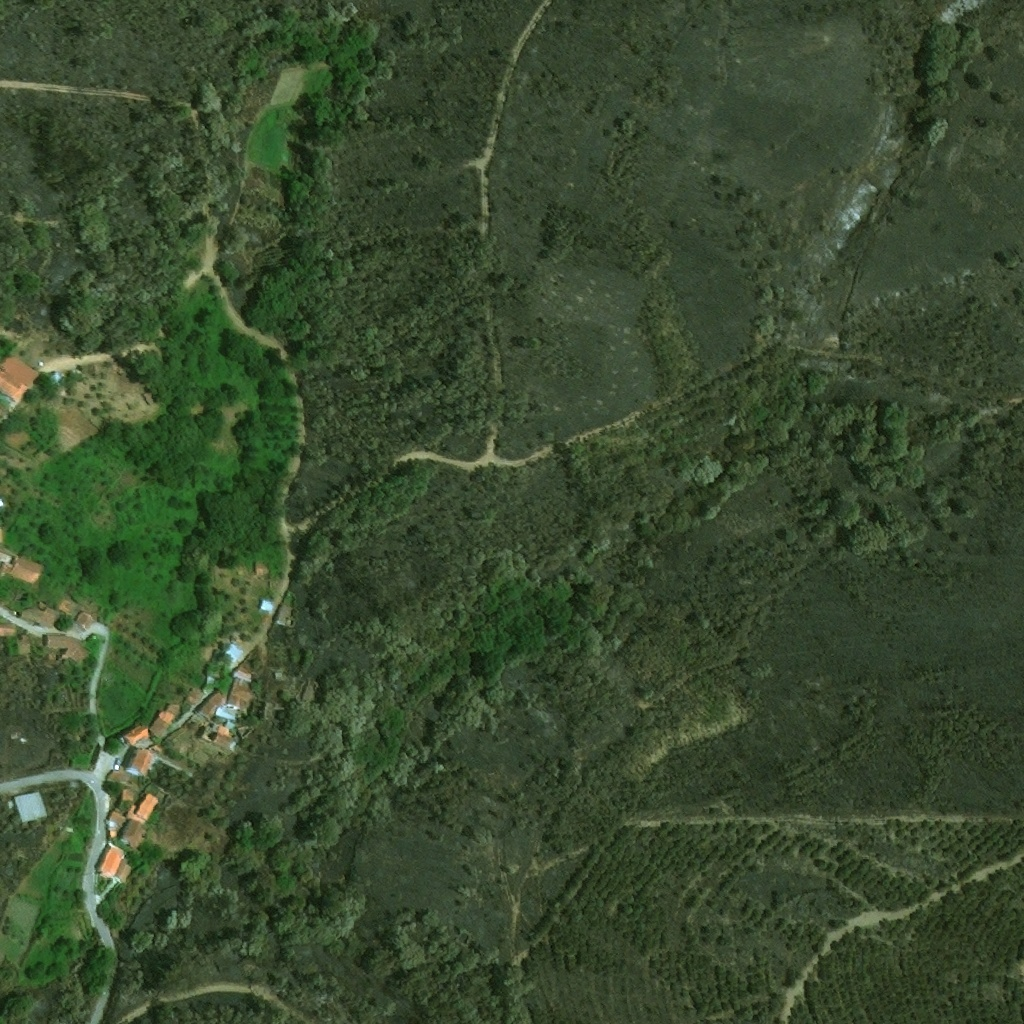0 no-damage: (0, 352, 41, 403), (93, 841, 132, 885), (17, 594, 62, 629), (47, 632, 93, 665), (2, 552, 47, 585), (106, 768, 143, 804), (149, 702, 184, 738), (13, 790, 49, 824), (212, 633, 245, 669), (127, 791, 160, 825), (193, 685, 227, 718), (226, 677, 257, 713), (118, 818, 147, 850), (125, 748, 155, 778), (212, 724, 240, 752), (106, 809, 127, 839), (123, 725, 149, 747), (214, 703, 240, 721), (76, 610, 96, 630), (259, 596, 275, 614), (0, 621, 17, 635), (275, 671, 283, 680)
1 minor-damage: (275, 603, 294, 627)
4 un-classified: (301, 677, 323, 702)
